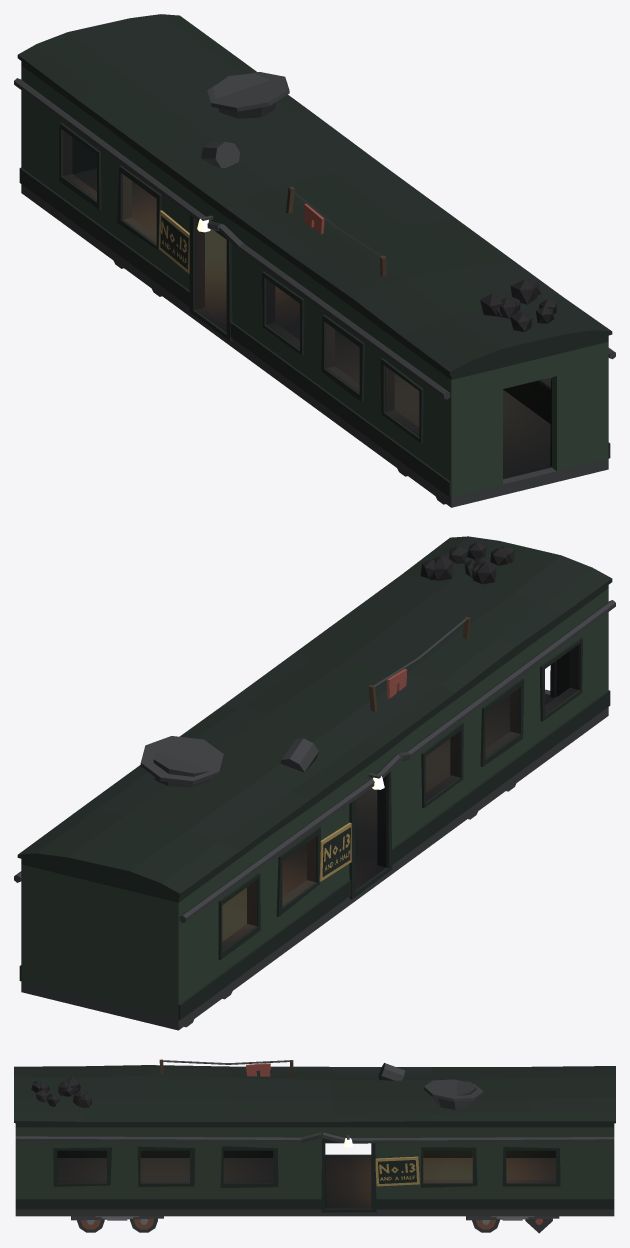
The model's file is car_locomotive.glb.
The picture shows the model from 3 angles, top to bottom: view 1: azimuth 30°, elevation 25°; view 2: azimuth 150°, elevation 25°; view 3: azimuth 270°, elevation 25°; orthographic projection. The views are drawn at different scales.
Parts seen in each view (by area): view 1: Exterior, Interior; view 2: Exterior, Interior; view 3: Exterior, Interior.
Part boxes in pixels (x1=…): Exterior: x1=14, y1=14, x2=615, y2=507; Interior: x1=63, y1=131, x2=551, y2=479; Exterior: x1=14, y1=536, x2=615, y2=1030; Interior: x1=222, y1=645, x2=578, y2=950; Exterior: x1=14, y1=1059, x2=615, y2=1233; Interior: x1=57, y1=1143, x2=555, y2=1208.
Size of the model in its own units: 4.49 by 4.88 by 18.1.
